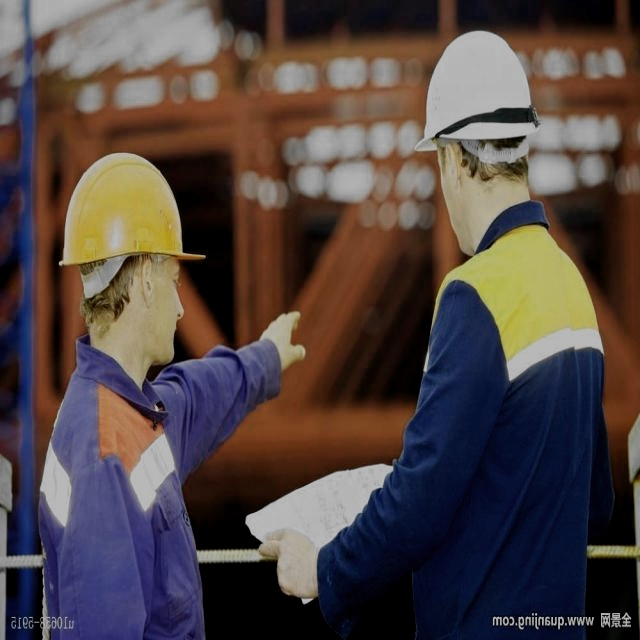Con_Casco: (422, 23, 544, 245), (70, 149, 186, 365)
Sin_Chaleco: (408, 245, 599, 635)
